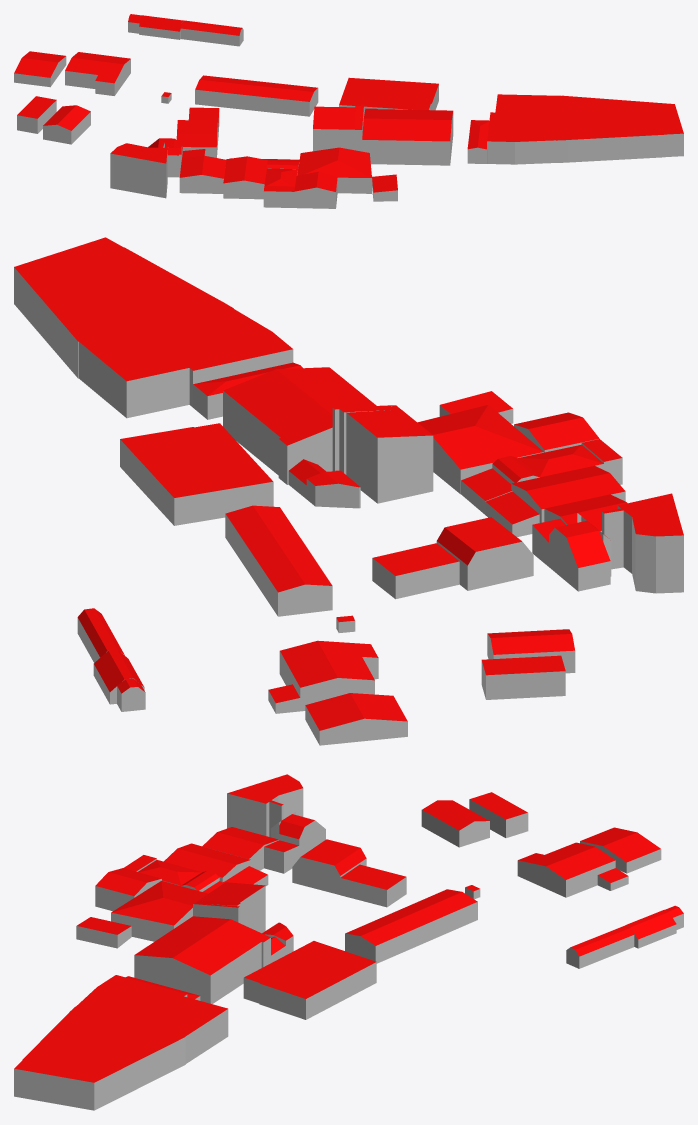
3 views of the same model, one above another, from view 1: azimuth 30°, elevation 25°; view 2: azimuth 150°, elevation 25°; view 3: azimuth 270°, elevation 25° (orthographic). The views are drawn at different scales.
Bounding box in the file's own units: 233 × 18.36 × 220.
